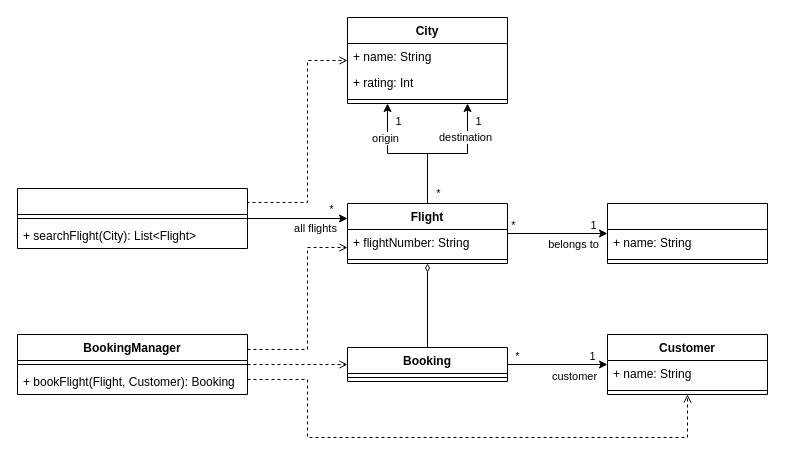
Image size: 785x463. Some labels were removed from this diagram. Each missing label, with the box of its shape:
Airline: (606, 202, 768, 264)
TravelPlanner: (16, 188, 248, 248)
